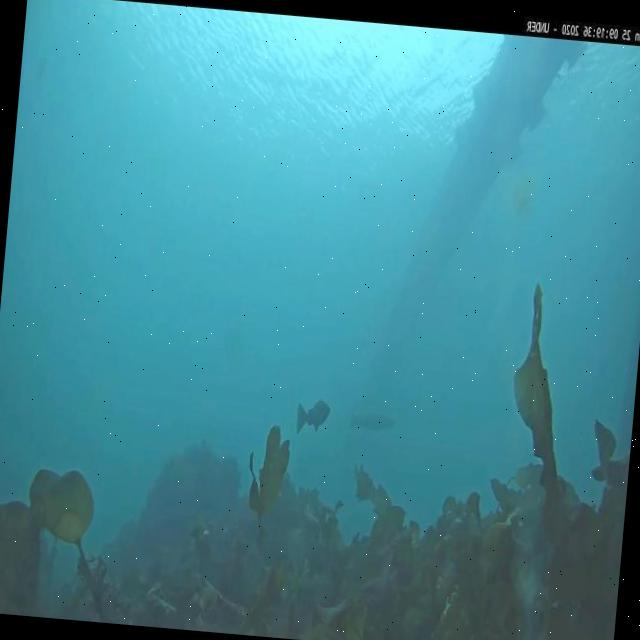fish: (294, 396, 330, 431), (349, 408, 396, 434)
